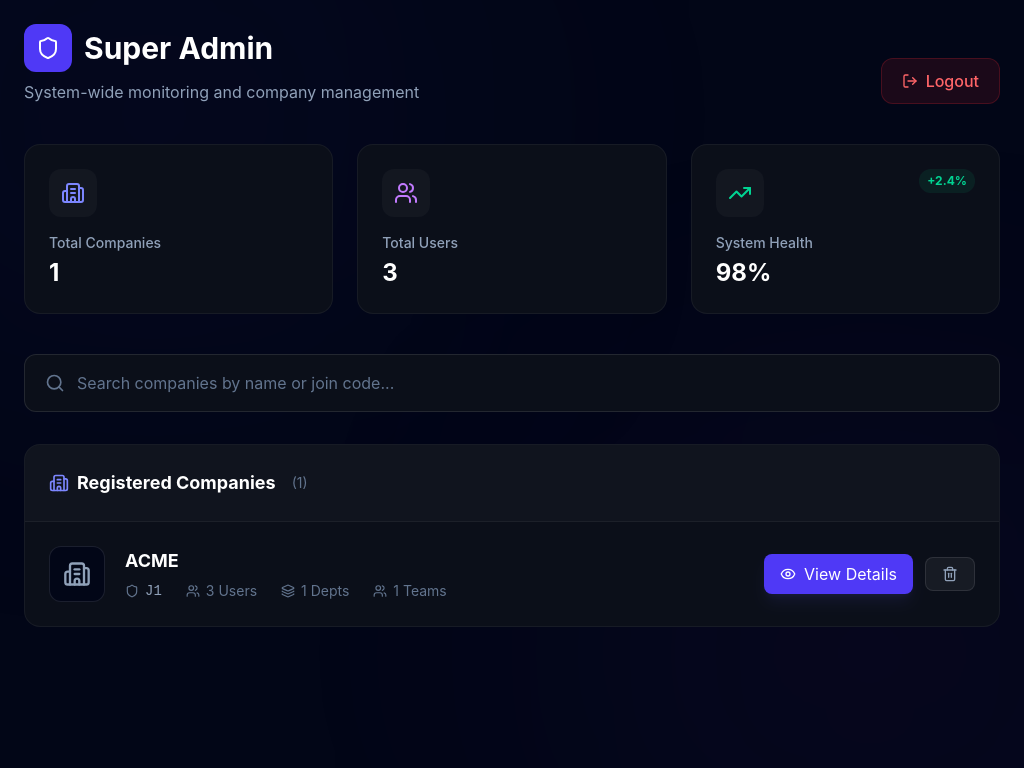
it: SuperAdminDashboardPage interactions › opens company details and verifies key elements
Check: the heading "ACME" is shown, box [125,547,179,575]
Click the button "View Details": (839, 574) [764,554,913,594]
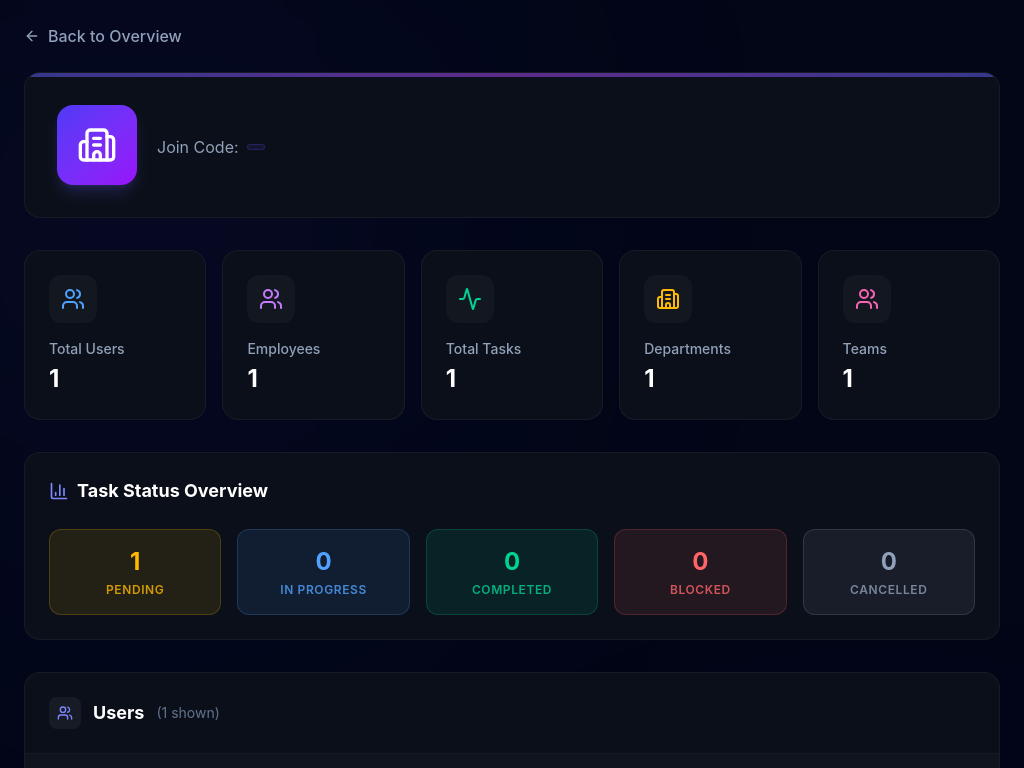
Check: the text "Join Code:" is shown, box [157,135,265,159]
